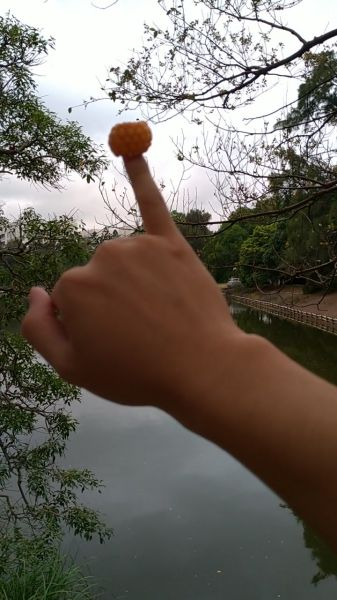eggs: (107, 122, 154, 156)
